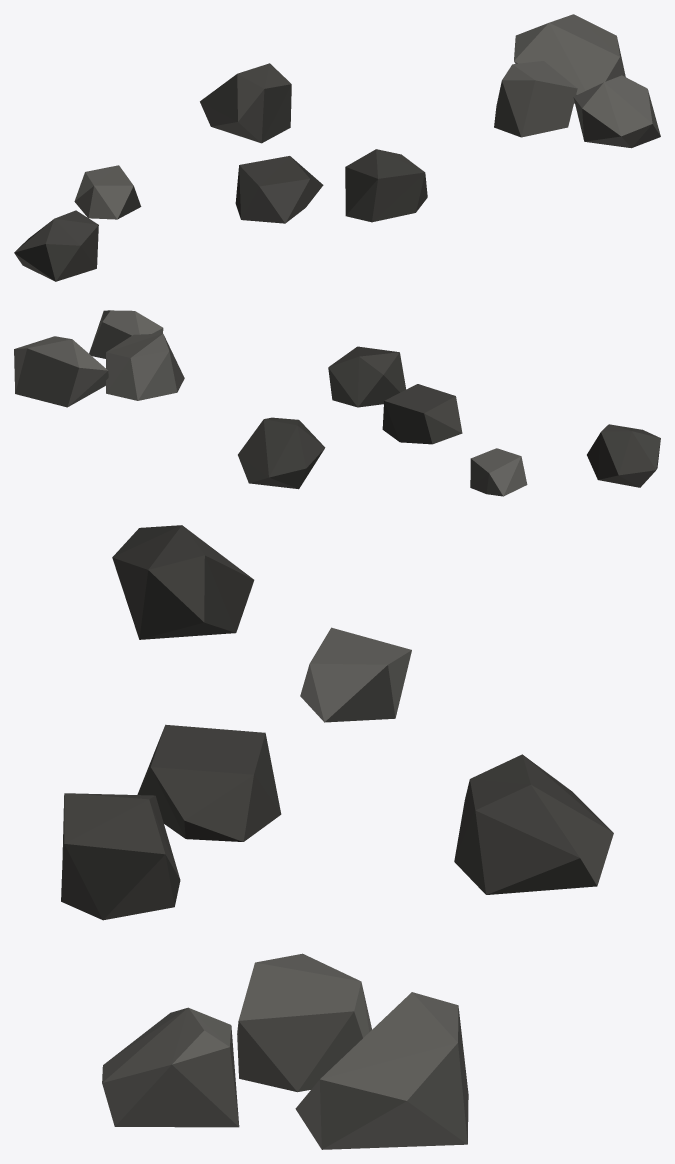
Rendered from SM_Env_Rock_Pebbles_02.fbx.
The picture shows the model from 3 angles, top to bottom: view 1: azimuth 30°, elevation 25°; view 2: azimuth 150°, elevation 25°; view 3: azimuth 270°, elevation 25°; orthographic projection. The views are drawn at different scales.
Visible parts, largest first — view 1: SM_Env_Rock_Pebbles_02; view 2: SM_Env_Rock_Pebbles_02; view 3: SM_Env_Rock_Pebbles_02.
Part boxes in pixels (x1,y1,x2,y2): SM_Env_Rock_Pebbles_02: (14, 14, 660, 281); SM_Env_Rock_Pebbles_02: (14, 310, 660, 496); SM_Env_Rock_Pebbles_02: (61, 525, 613, 1149).
Size of the model in its own units: 98.04 by 9.15 by 39.65.
Materials: 1 (1 with a texture image).
